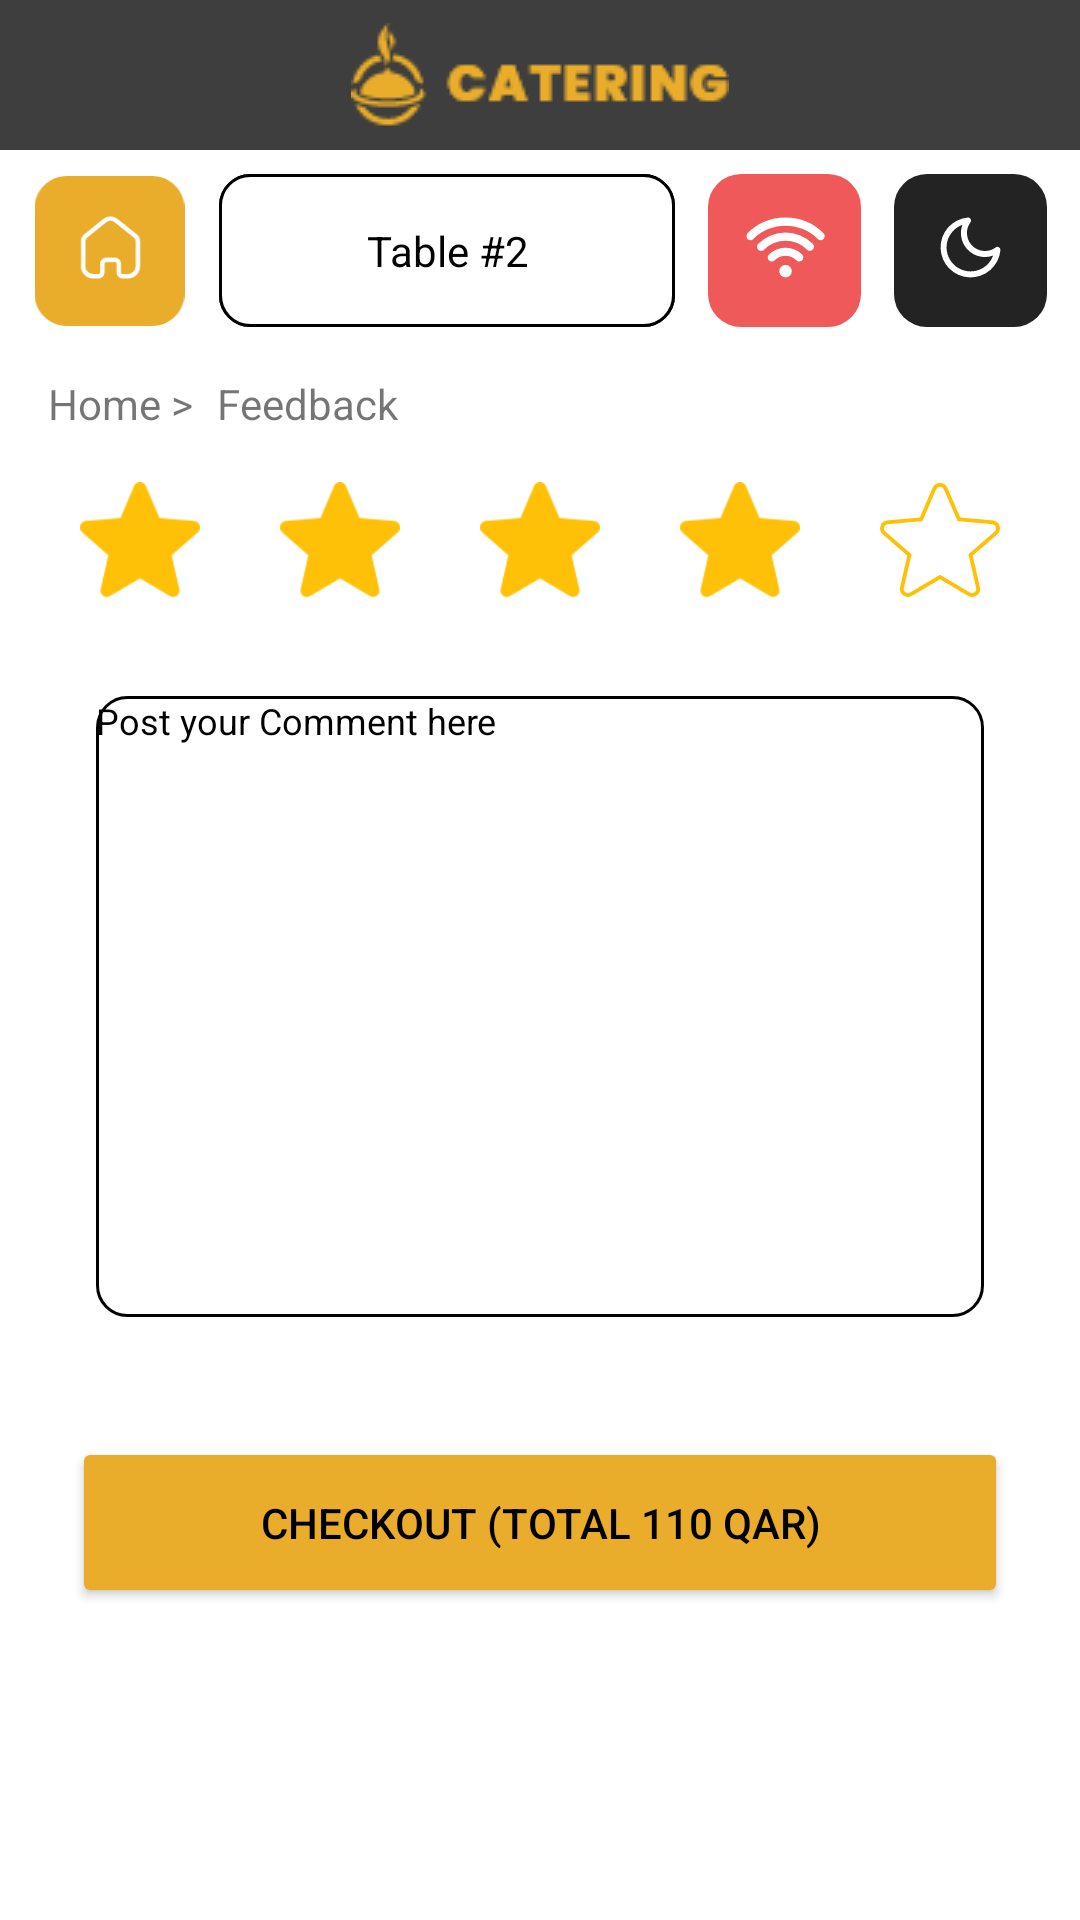

Icons on this 1080 x 1920 Android screen, each with its box as (x1, y1, x2, y2):
homw: (35, 176, 185, 326)
star: (80, 482, 200, 598), (280, 482, 400, 598), (480, 482, 600, 598), (680, 482, 800, 598), (880, 483, 1000, 597)
wifi: (708, 174, 861, 327)
